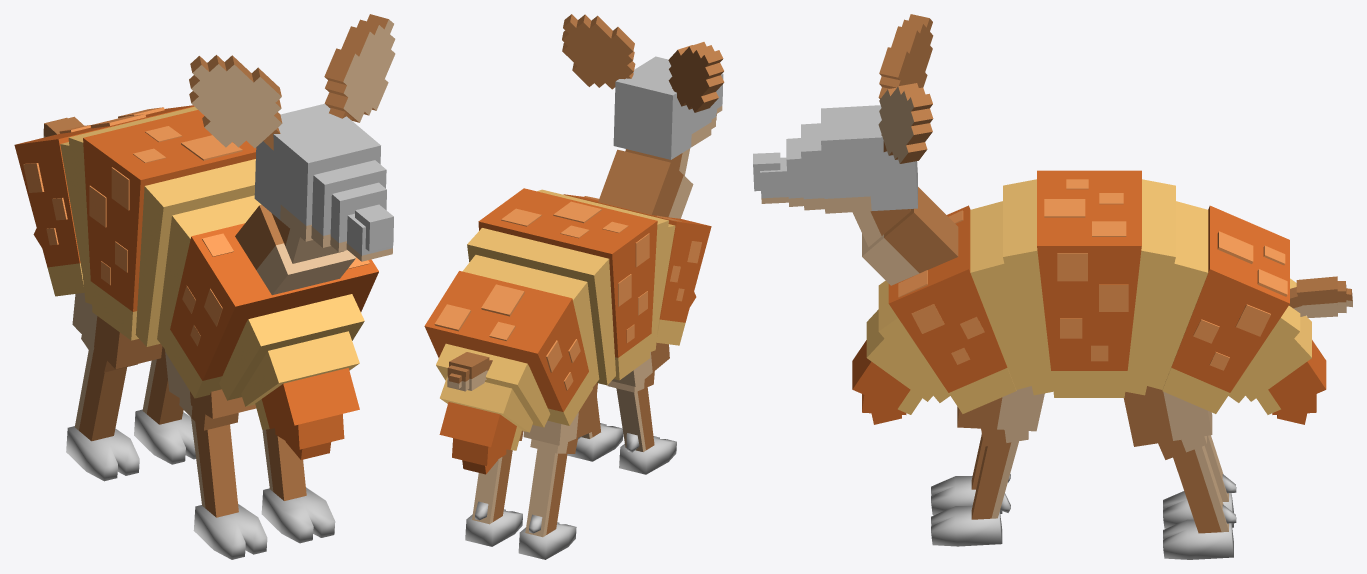
3 views of the same model, side by side, from view 1: azimuth 30°, elevation 25°; view 2: azimuth 150°, elevation 25°; view 3: azimuth 270°, elevation 25° (orthographic). The views are drawn at different scales.
Parts seen in each view (by area): view 1: Pack 9.009; view 2: Pack 9.009; view 3: Pack 9.009.
Boxes of the visible parts, left/top/right/bottom form: Pack 9.009: left=14, top=14, right=395, bottom=559; Pack 9.009: left=424, top=14, right=724, bottom=559; Pack 9.009: left=753, top=14, right=1352, bottom=559.
Size of the model in its own units: 112 by 278 by 315.
